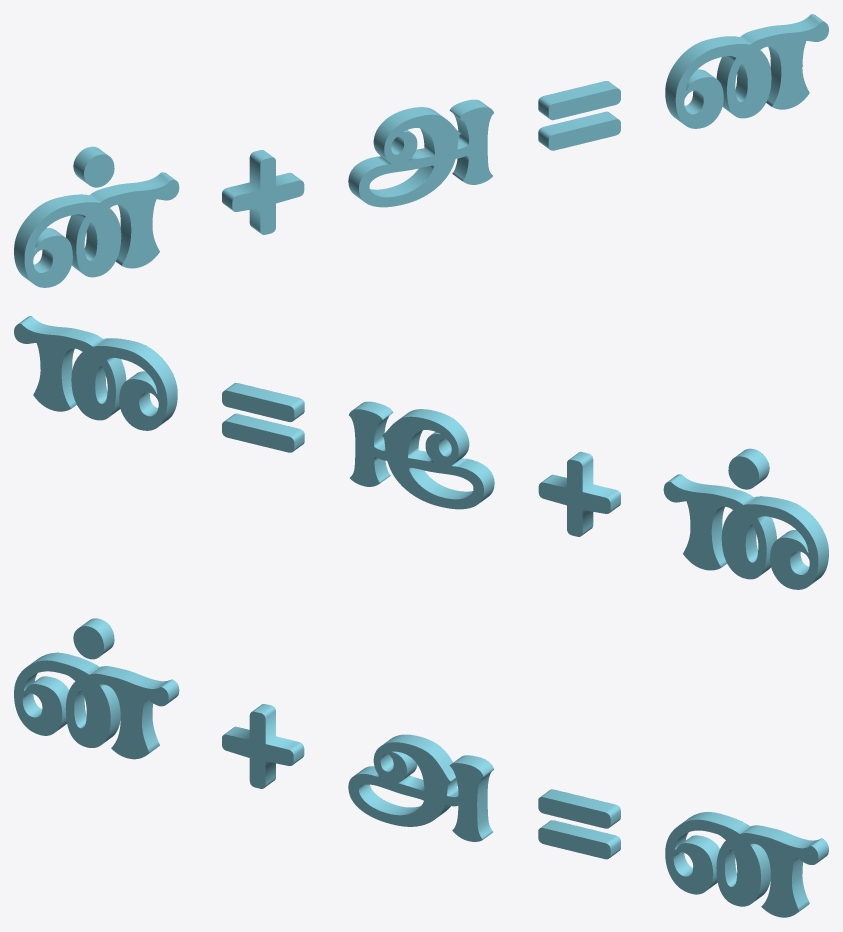
The picture shows the model from 3 angles, top to bottom: view 1: azimuth 30°, elevation 25°; view 2: azimuth 150°, elevation 25°; view 3: azimuth 330°, elevation 25°; orthographic projection.
Parts seen in each view (by area): view 1: nnaa; view 2: nnaa; view 3: nnaa.
Part boxes in pixels (x1,y1,x2,y2): nnaa: [14, 14, 828, 287]; nnaa: [14, 316, 828, 589]; nnaa: [14, 618, 828, 917].
Bounding box in the file's own units: 0.1902 × 0.028 × 0.00431.
